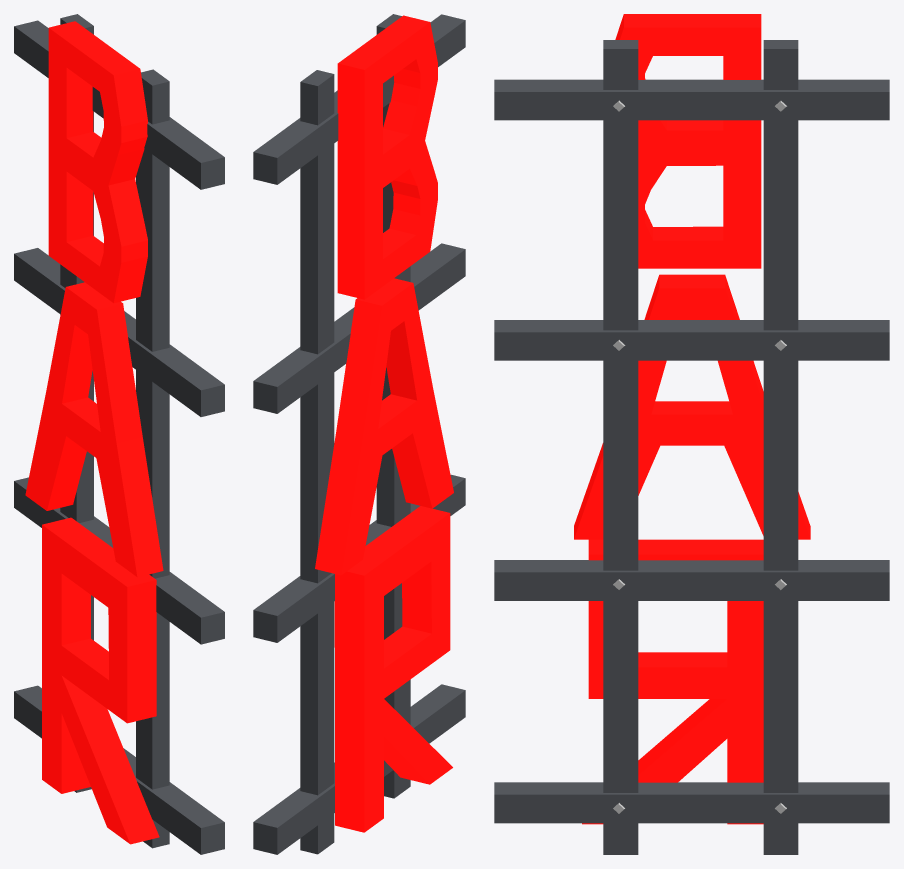
The model's file is SM_Hoarding_06_B.fbx.
3 renders of one model, left to right at view 1: azimuth 30°, elevation 25°; view 2: azimuth 150°, elevation 25°; view 3: azimuth 270°, elevation 25°, orthographic. The views are drawn at different scales.
Parts seen in each view (by area): view 1: SM_Hoarding_06_B_LOD0; view 2: SM_Hoarding_06_B_LOD0; view 3: SM_Hoarding_06_B_LOD0.
Part boxes in pixels (left/top/right/bottom): SM_Hoarding_06_B_LOD0: left=14, top=14, right=224, bottom=854; SM_Hoarding_06_B_LOD0: left=253, top=14, right=465, bottom=854; SM_Hoarding_06_B_LOD0: left=494, top=14, right=889, bottom=854.
Size of the model in its own units: 45.36 by 268 by 612.
Materials: 1 (1 with a texture image).
